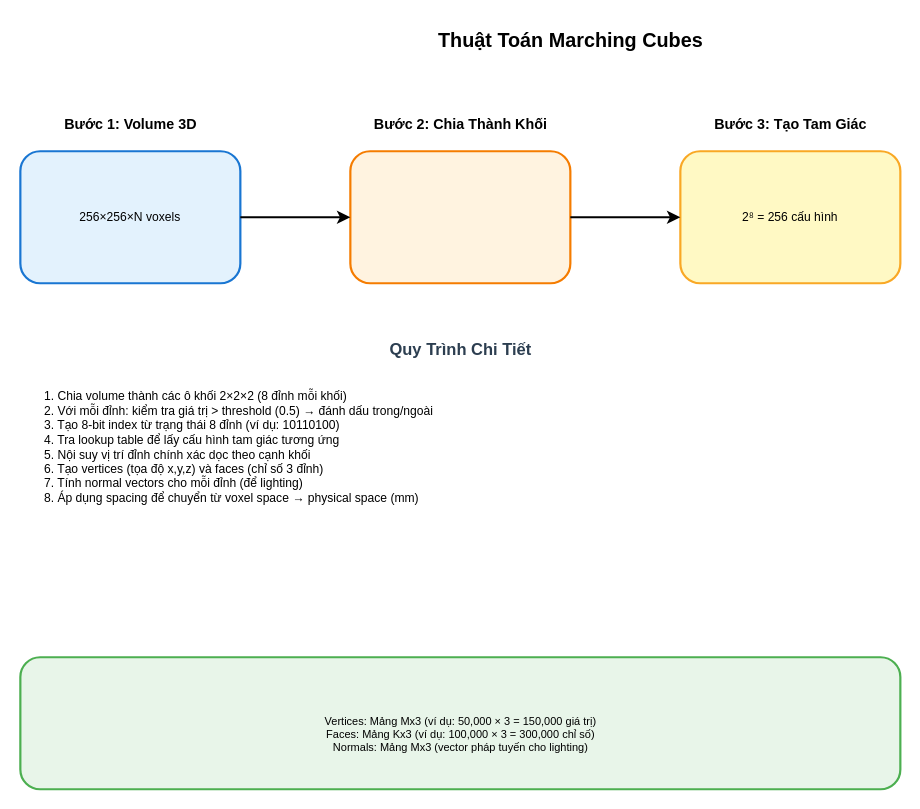
Image size: 920x809. Some labels were removed from this diagram. Here are the shapes that lost their labels. From the top down, the box of each, then its label:
(349, 150, 571, 284): 8 đỉnh: Trong (xanh) / Ngoài (đỏ)
(19, 656, 901, 790): OUTPUT
